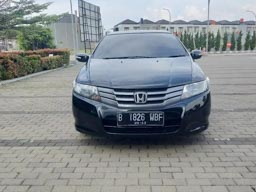plat: (117, 113, 164, 121)
